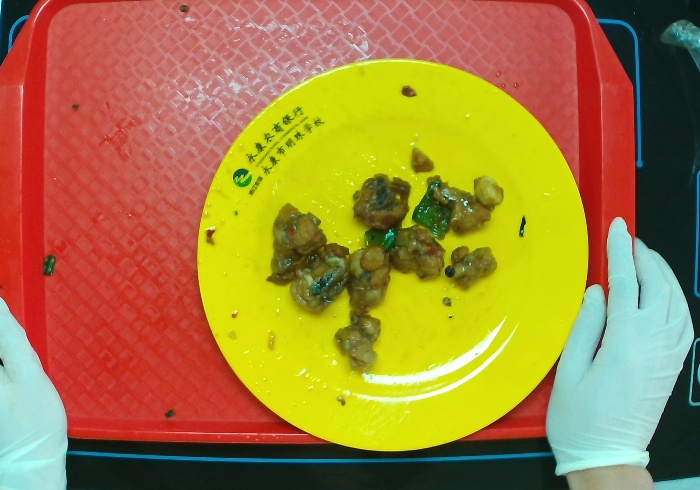YKMZ-Huang_Se_Mian_Pan: (180, 47, 601, 457)
